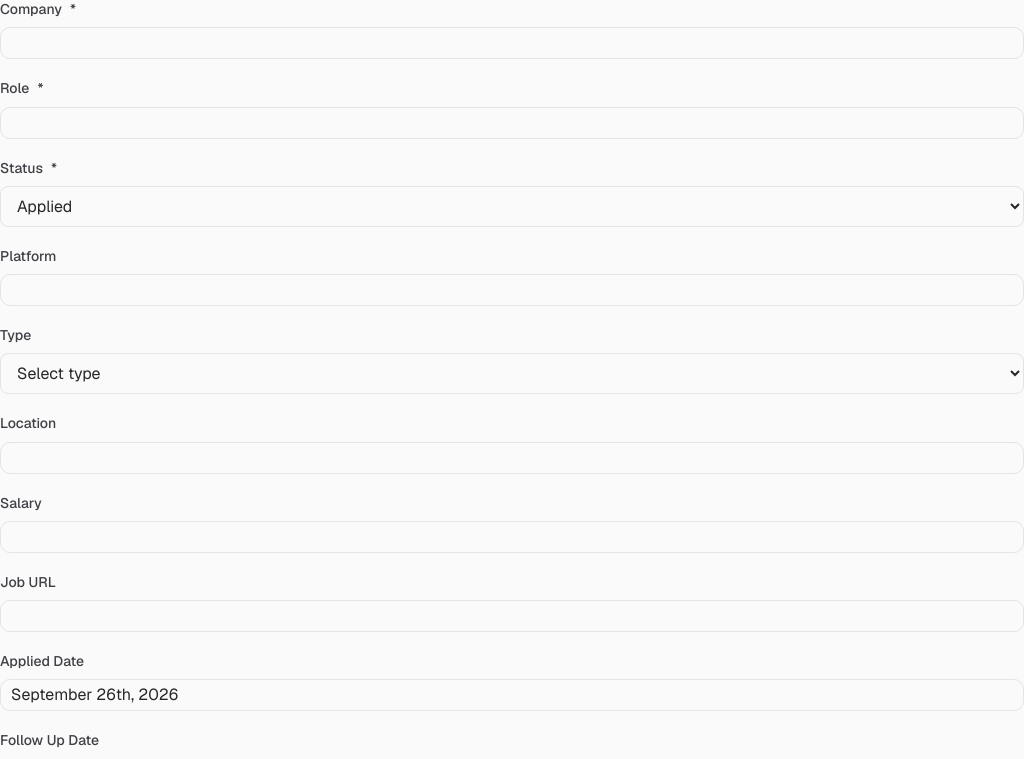
Test case: FormMode › user interaction › applied date › opens calendar
Click the button named "applied date" at (95, 695), box left=0, top=679, right=1023, bottom=711
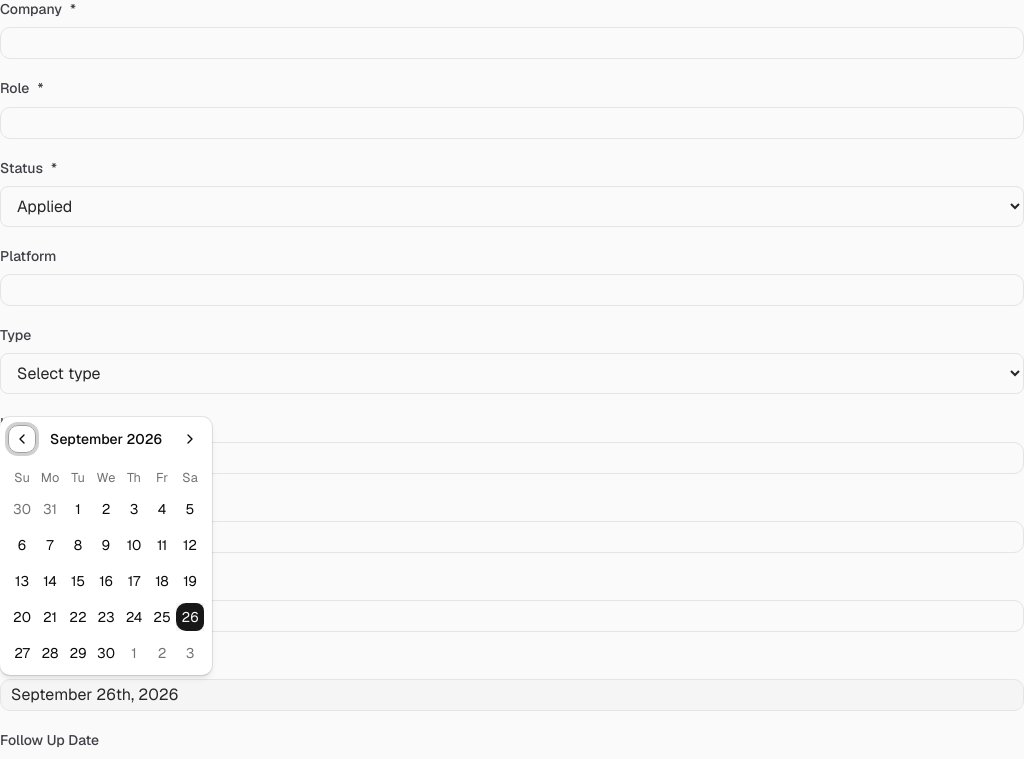
Expected: the table is shown, left=8, top=469, right=204, bottom=667
